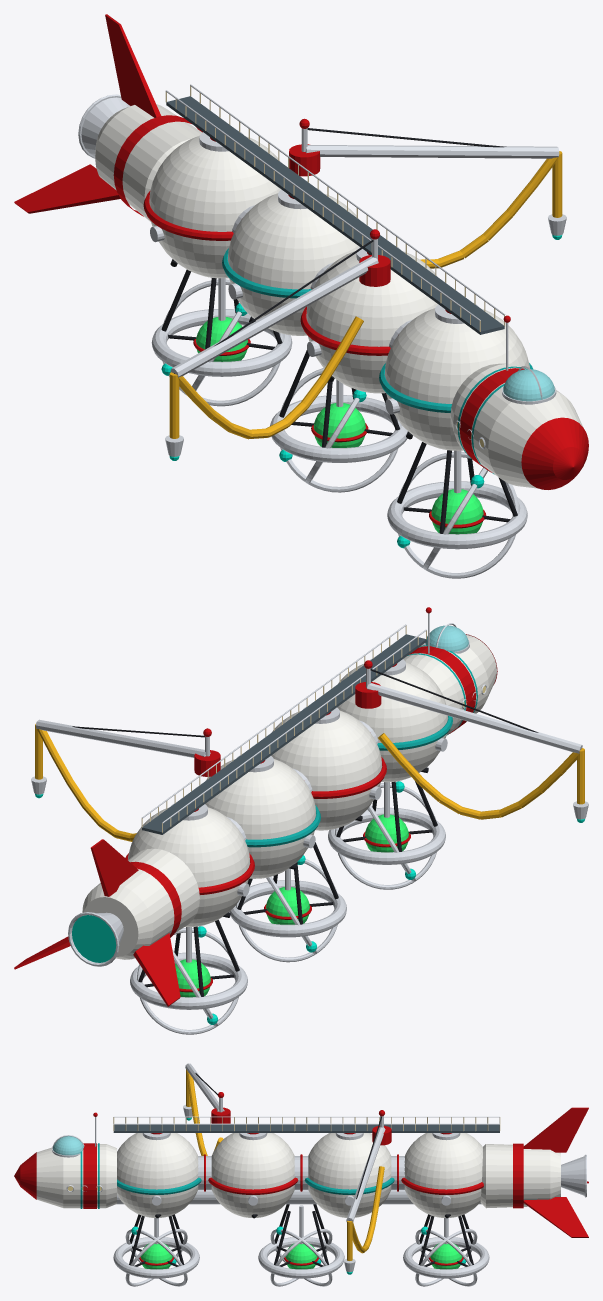
File: steam_tender.obj
The picture shows the model from 3 angles, top to bottom: view 1: azimuth 30°, elevation 25°; view 2: azimuth 150°, elevation 25°; view 3: azimuth 270°, elevation 25°; orthographic projection. The views are drawn at different scales.
Visible parts, largest first — view 1: steam_tender; view 2: steam_tender; view 3: steam_tender.
Part boxes in pixels (x1,y1,x2,y2): steam_tender: (14, 14, 588, 578); steam_tender: (14, 607, 588, 1034); steam_tender: (14, 1063, 588, 1286).
Size of the model in its own units: 327 by 180 by 500.
Materials: 1 (1 with a texture image).
